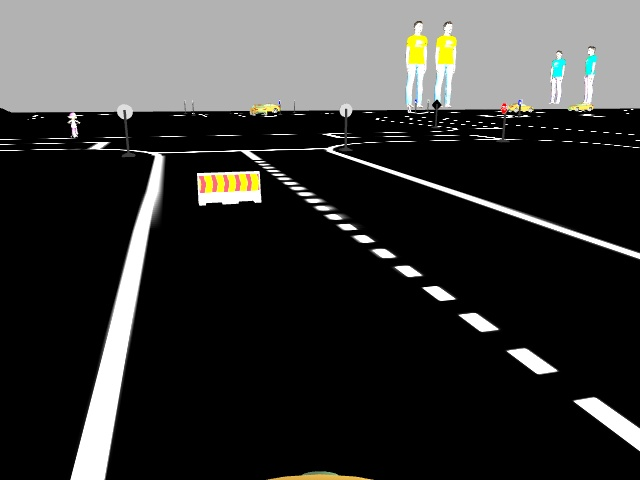ClosedRoadStand: (196, 173, 261, 202)
